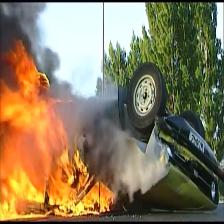fire: (0, 26, 120, 221)
smoke: (68, 99, 187, 206), (0, 0, 85, 93)
